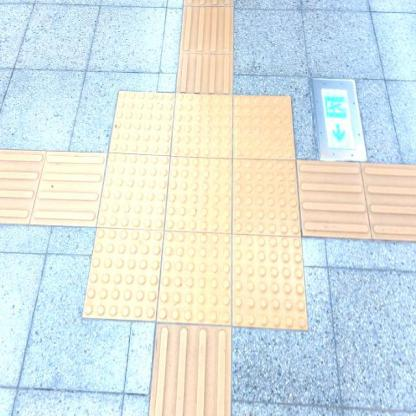podotacti: (66, 53, 328, 371), (302, 160, 416, 238), (0, 148, 98, 230), (148, 330, 232, 415), (175, 0, 238, 95)
